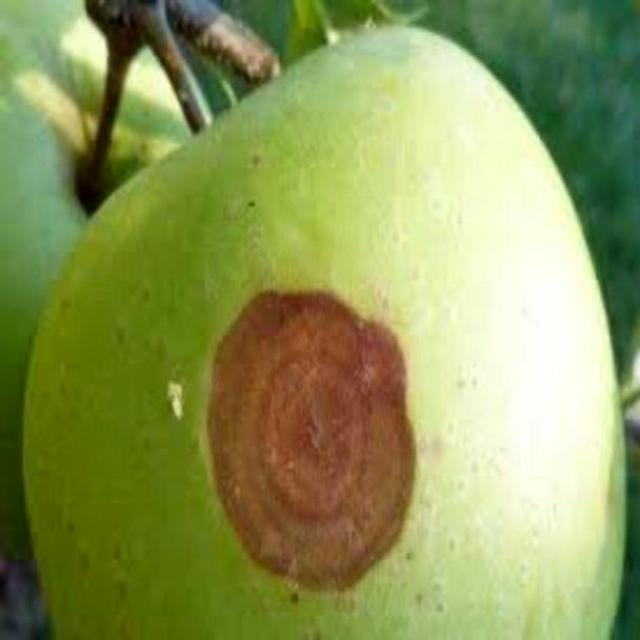BLOTCH: (20, 31, 617, 634)
